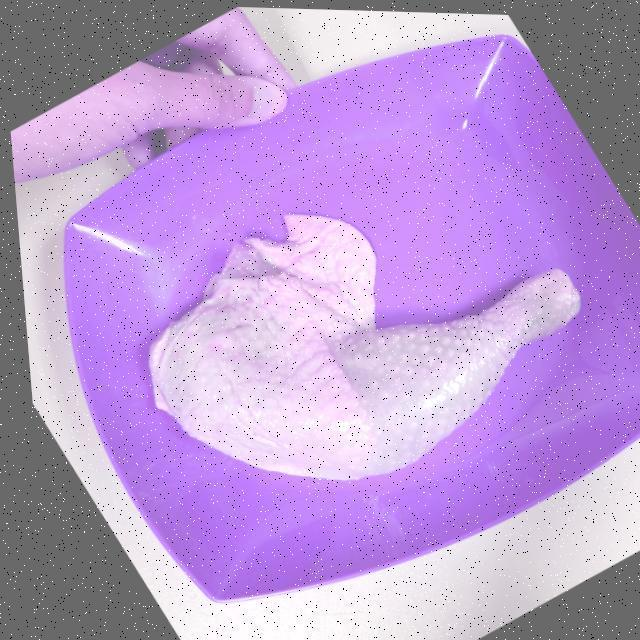quater: (137, 218, 584, 480)
